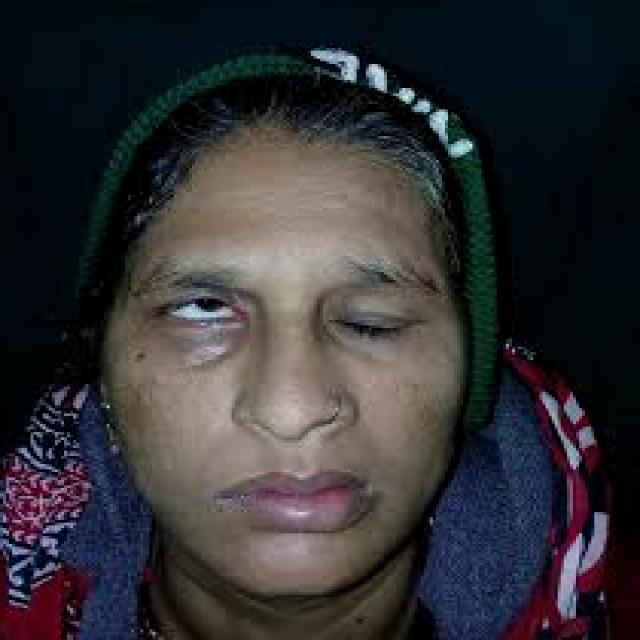stroke_face: (103, 26, 501, 604)
